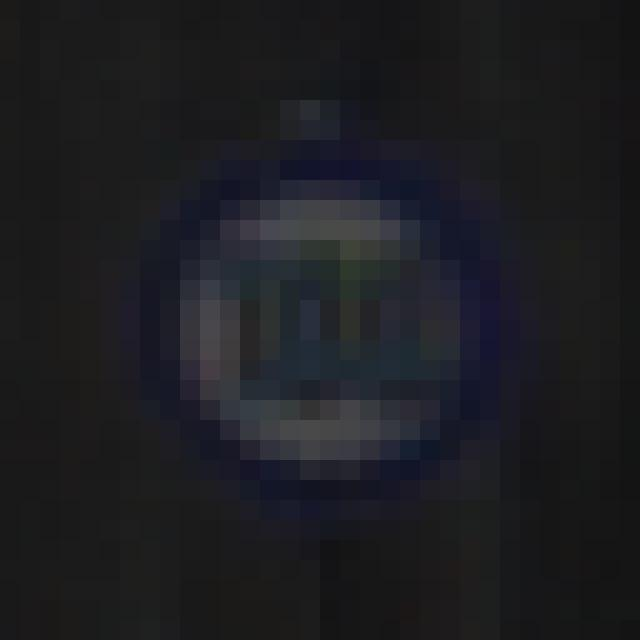SPEED LIMIT 100: (134, 138, 500, 486)
